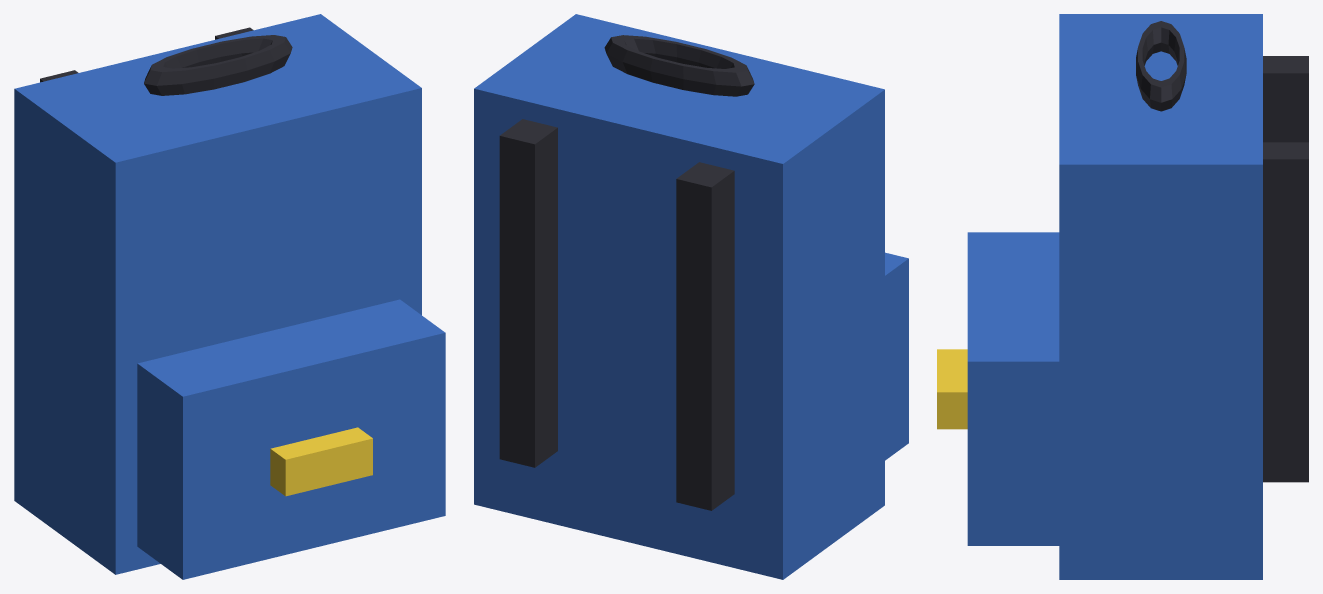
The model's file is backpack.glb.
The picture shows the model from 3 angles, left to right: view 1: azimuth 30°, elevation 25°; view 2: azimuth 150°, elevation 25°; view 3: azimuth 270°, elevation 25°; orthographic projection.
Parts seen in each view (by area): view 1: backpack; view 2: backpack; view 3: backpack.
Part boxes in pixels (x1,y1,x2,y2): backpack: (14,14,445,579); backpack: (474,14,908,579); backpack: (937,14,1308,579).
Bounding box in the file's own units: 0.35 × 0.488 × 0.365.
